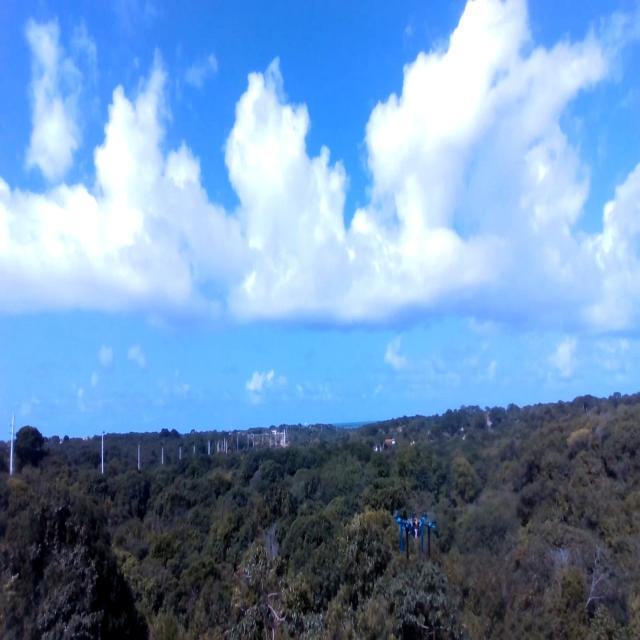-uav-: (387, 508, 446, 566)
